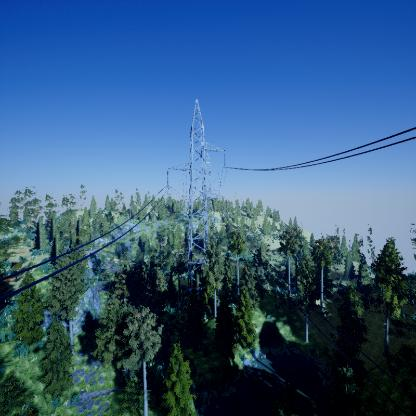tower: (164, 95, 229, 285)
